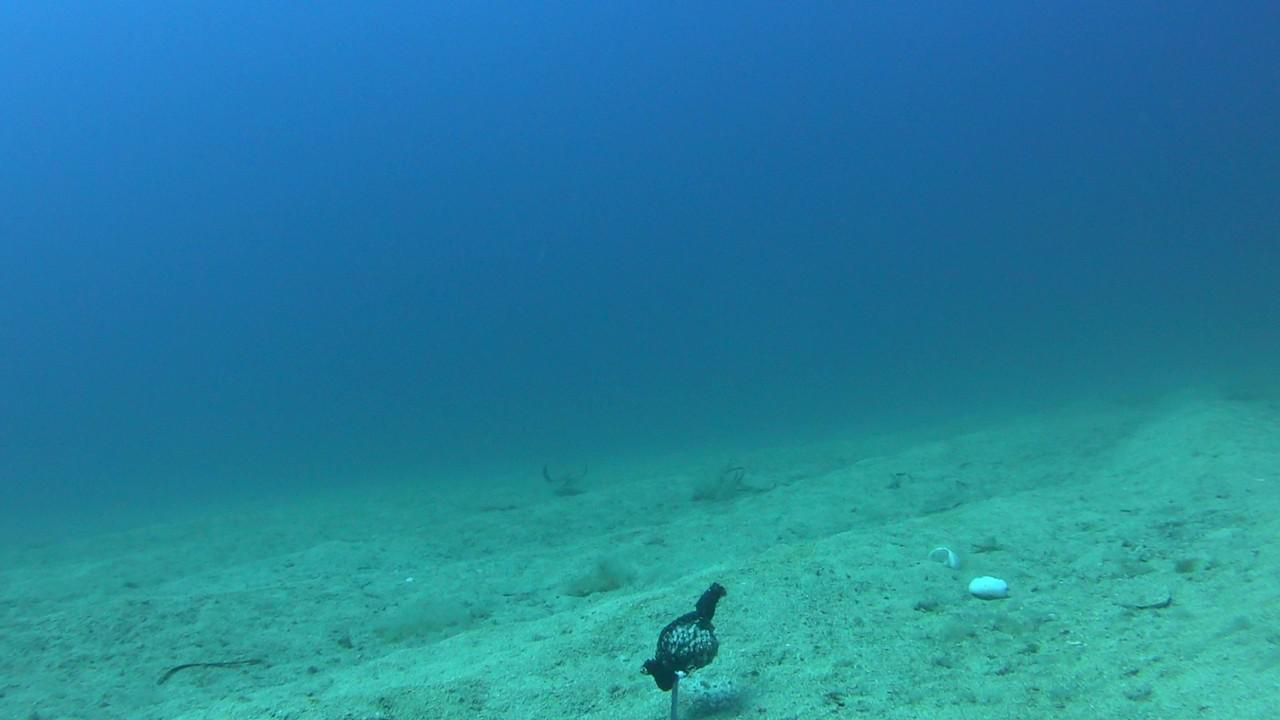myliobatis: (539, 450, 596, 494)
